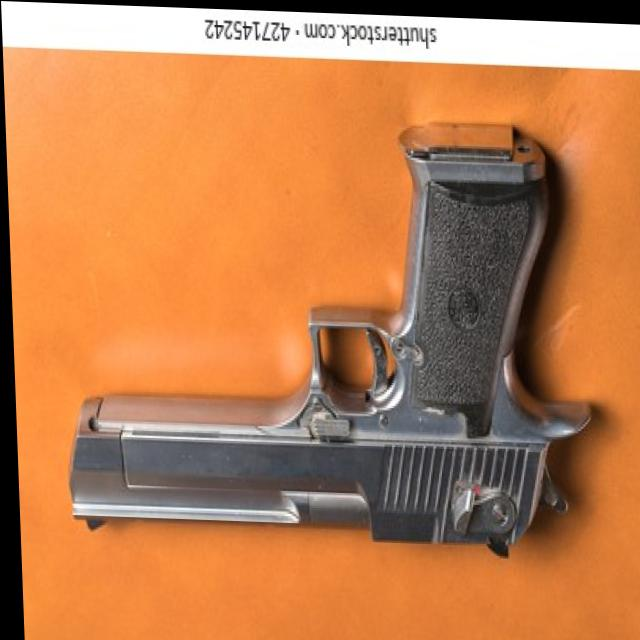handgun: (34, 98, 595, 549)
